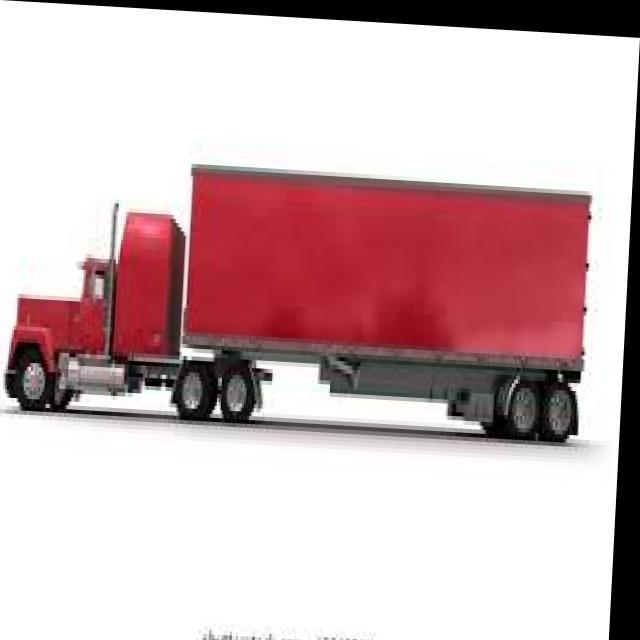covered: (4, 145, 598, 440)
